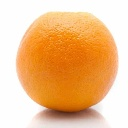orange: (13, 10, 121, 114)
